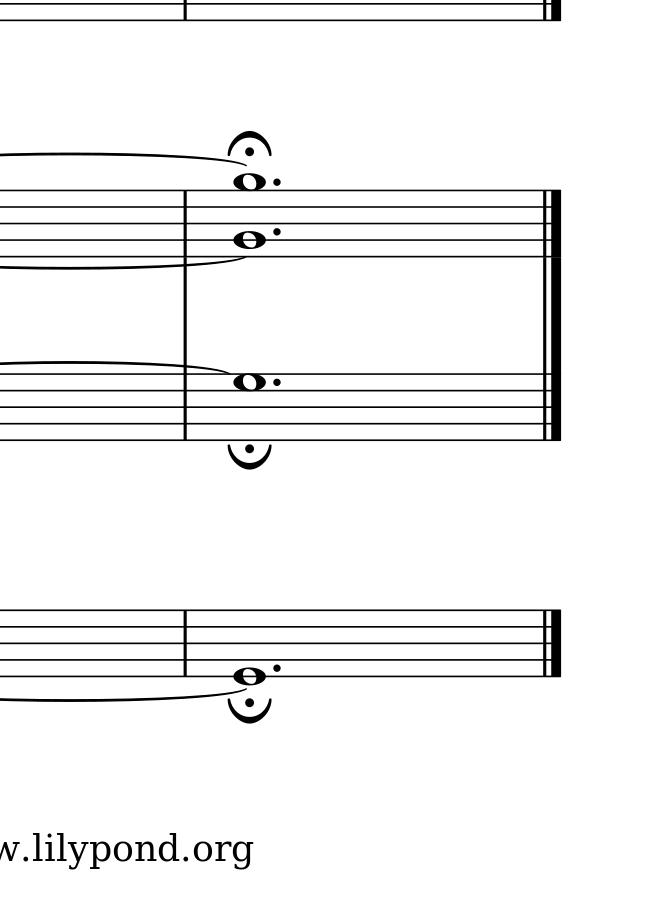1_0: (232, 608, 266, 686)
1_2_9: (233, 172, 266, 261)
1_7: (231, 373, 267, 442)
Fermata_above: (226, 128, 273, 161), (227, 440, 277, 470), (227, 695, 274, 723)
Final_barline: (536, 189, 565, 257), (537, 608, 564, 676), (538, 375, 562, 441)
Single_barline: (176, 190, 193, 262), (177, 369, 193, 439), (178, 611, 191, 674)
dot: (271, 175, 286, 189), (269, 225, 284, 238), (270, 376, 283, 389), (270, 662, 283, 674)
